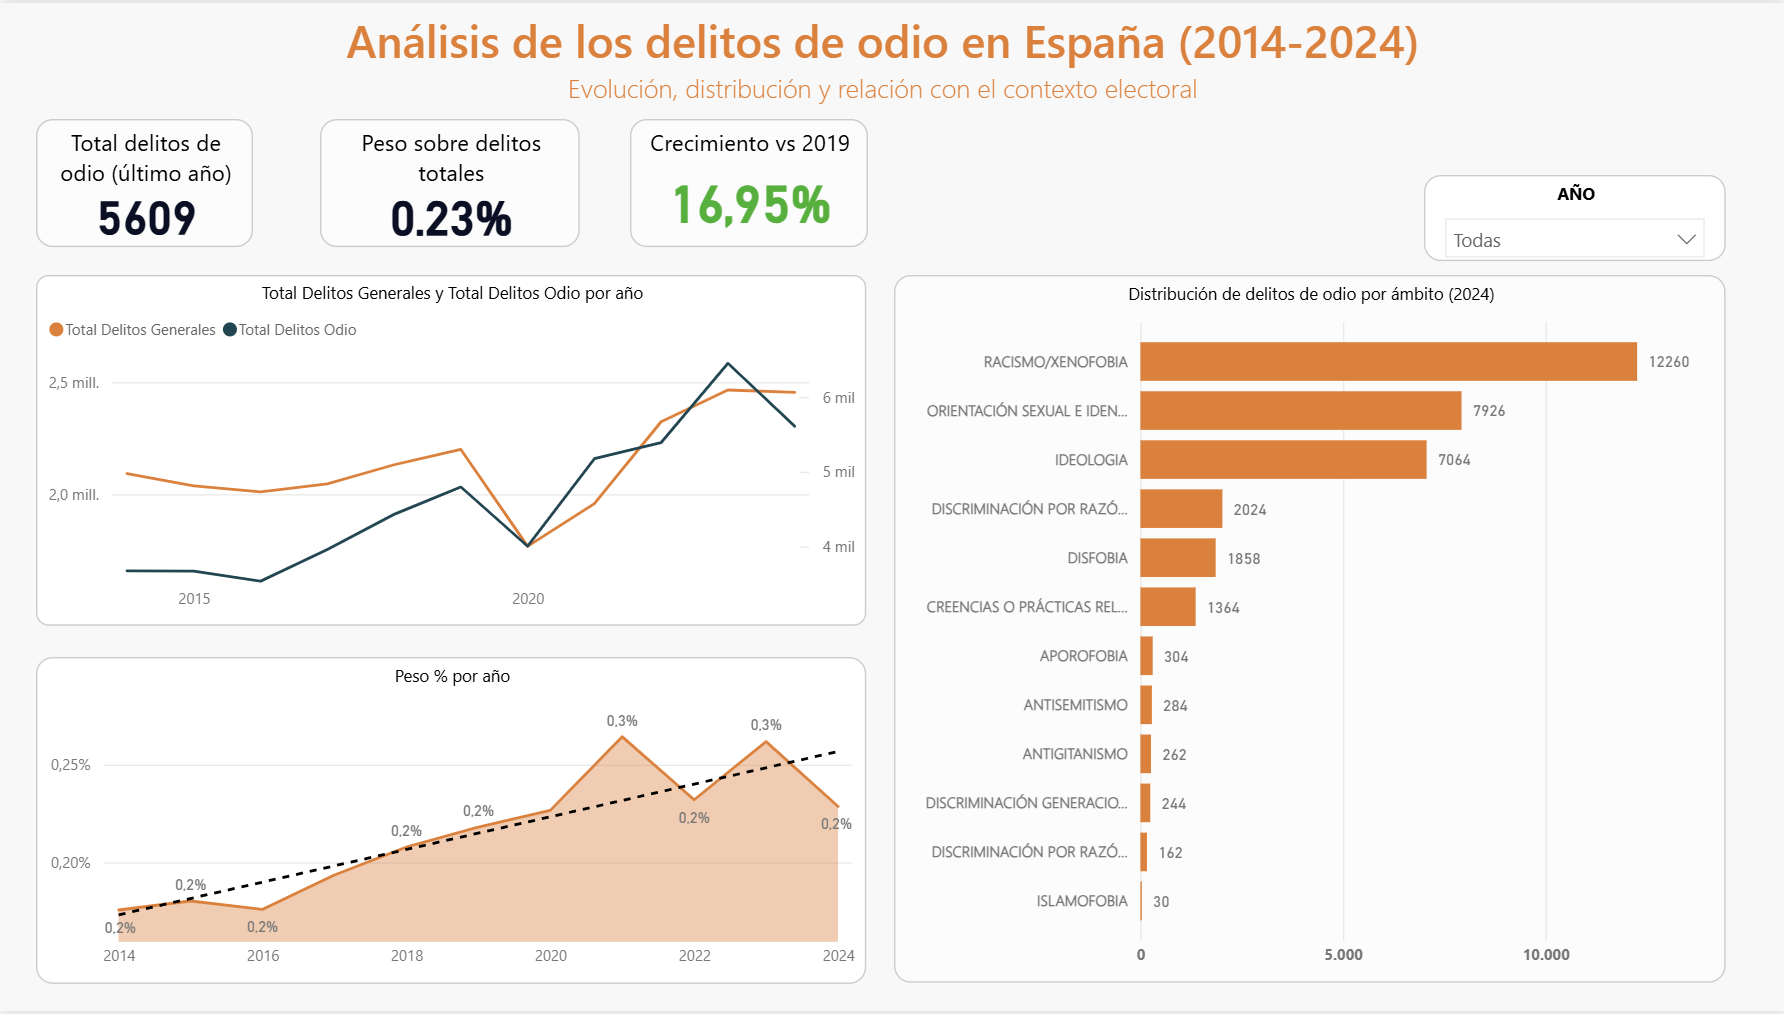

The page's visual inventory and layout, read from the dashboard file:
{"tool":"powerbi","page":{"name":"Página 1","canvas":[1280,720],"ordinal":0},"visuals":[{"type":"lineChart","fields":{"Category":["delitos_totales.año"],"Y":["delitos_odio_nacional.Total Delitos Generales"],"Y2":["delitos_odio_nacional.Total Delitos Odio"]},"box":[26.5,195,592.9,250.7],"z":0},{"type":"card","title":"Peso sobre delitos totales","fields":{"Values":["delitos_odio_nacional.Peso % Último Año"]},"box":[229.5,82.2,185.7,91.5],"z":1000},{"type":"card","title":"Crecimiento vs 2019","fields":{"Values":["delitos_odio_nacional.Crecimiento vs 2019 %"]},"box":[451,82.2,169.8,91.5],"z":2000},{"type":"barChart","title":"Distribución de delitos de odio por ámbito (2024)","fields":{"Category":["delitos_odio_por_ambito.ambito"],"Y":["Sum(delitos_odio_por_ambito.total_delitos)"]},"box":[640.7,195,594.2,505.4],"z":3000},{"type":"slicer","title":"AÑO","fields":{"Values":["delitos_odio_por_ambito.año"]},"box":[1019,123.4,215.3,61.7],"z":4000},{"type":"lineChart","fields":{"Category":["delitos_odio_nacional.año"],"Y":["delitos_odio_nacional.Peso %"]},"box":[26.5,466.9,592.9,233.5],"z":5000},{"type":"card","title":"Total delitos de odio (último año)","fields":{"Values":["delitos_odio_nacional.Total Delitos Odio Último Año"]},"box":[26.5,82.2,155.2,91.5],"z":6000},{"type":"textbox","box":[26.5,0,1209.7,82.2],"z":7001}]}

Visuals, with their boxes in screenshot pixels (x1, y1, x2, y2), scaled from the page's 1280x720 canvas onto the 1784x1014 screenshot:
lineChart - delitos_totales.año x delitos_odio_nacional.Total Delitos Generales: crop(37, 275, 863, 628)
"Peso sobre delitos totales" card: crop(320, 116, 579, 245)
"Crecimiento vs 2019" card: crop(629, 116, 865, 245)
"Distribución de delitos de odio por ámbito (2024)" barChart: crop(893, 275, 1721, 986)
"AÑO" slicer: crop(1420, 174, 1720, 261)
lineChart - delitos_odio_nacional.año x delitos_odio_nacional.Peso %: crop(37, 658, 863, 986)
"Total delitos de odio (último año)" card: crop(37, 116, 253, 245)
textbox: crop(37, 0, 1723, 116)
